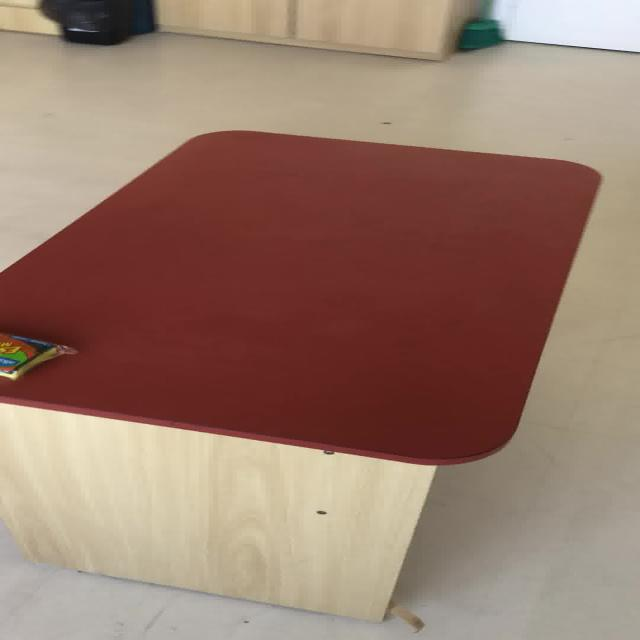sponge: (0, 331, 78, 380), (456, 18, 503, 50)
